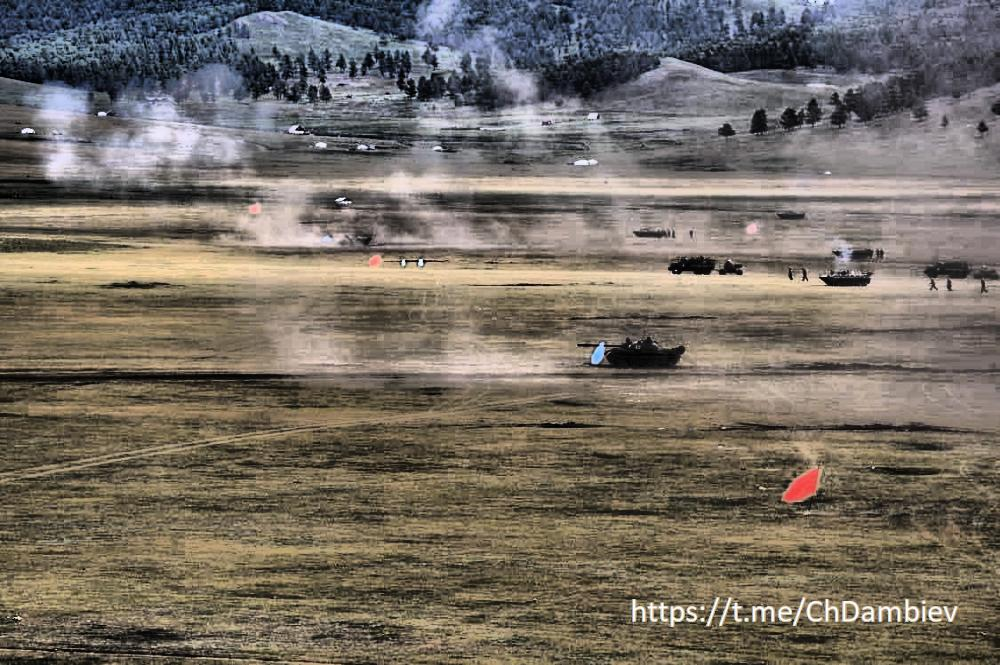military-vehicle: (580, 333, 686, 367)
